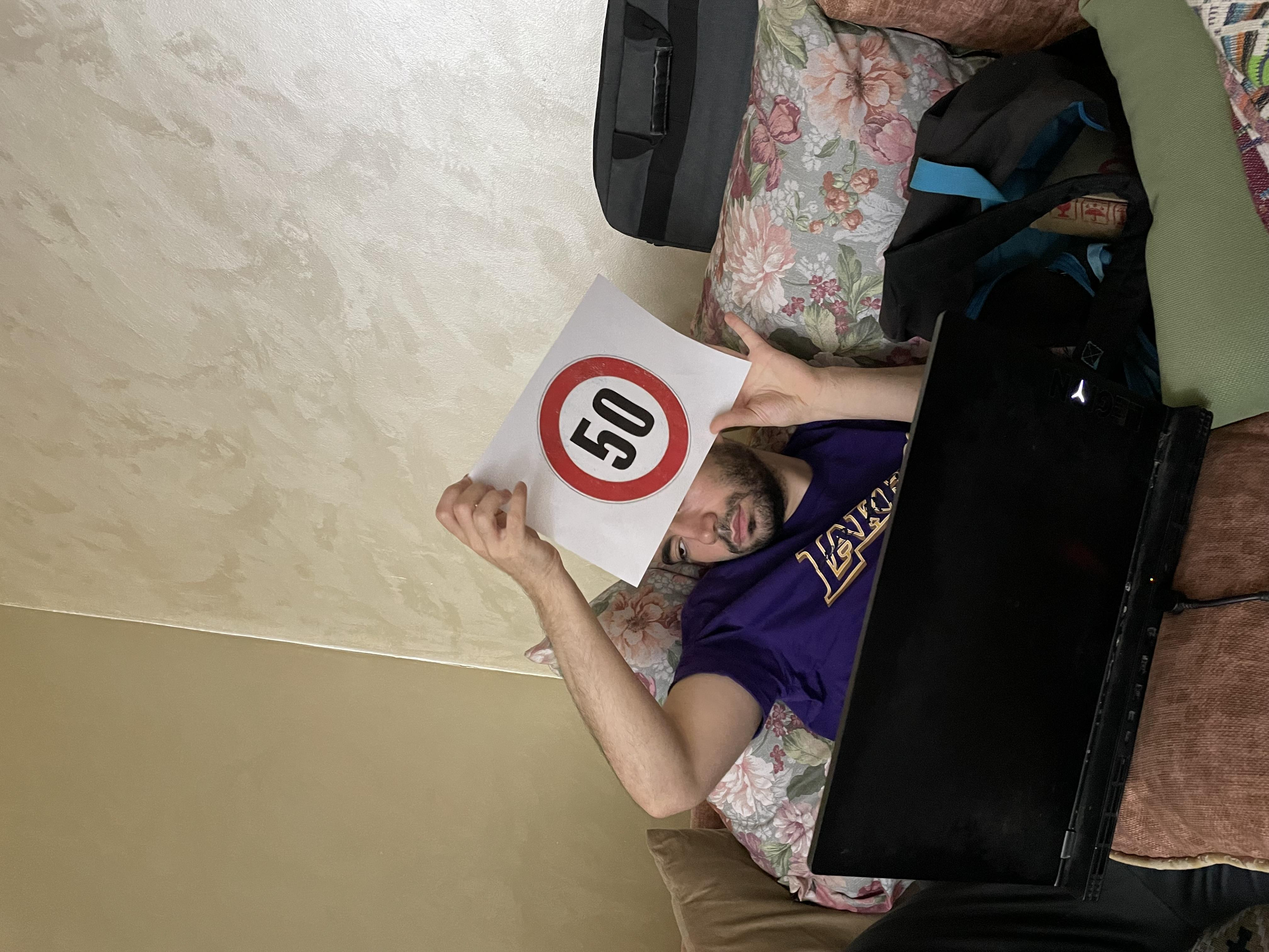50-Speed: (596, 401, 802, 519)
